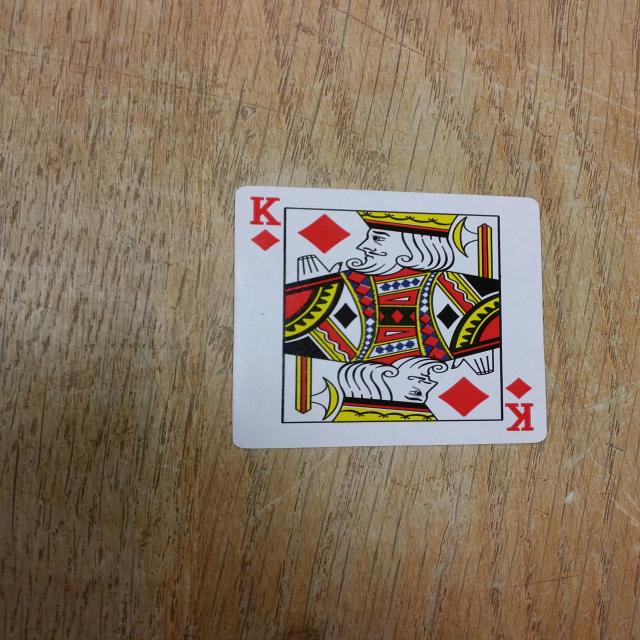Kd: (481, 371, 545, 440), (240, 192, 294, 257)
